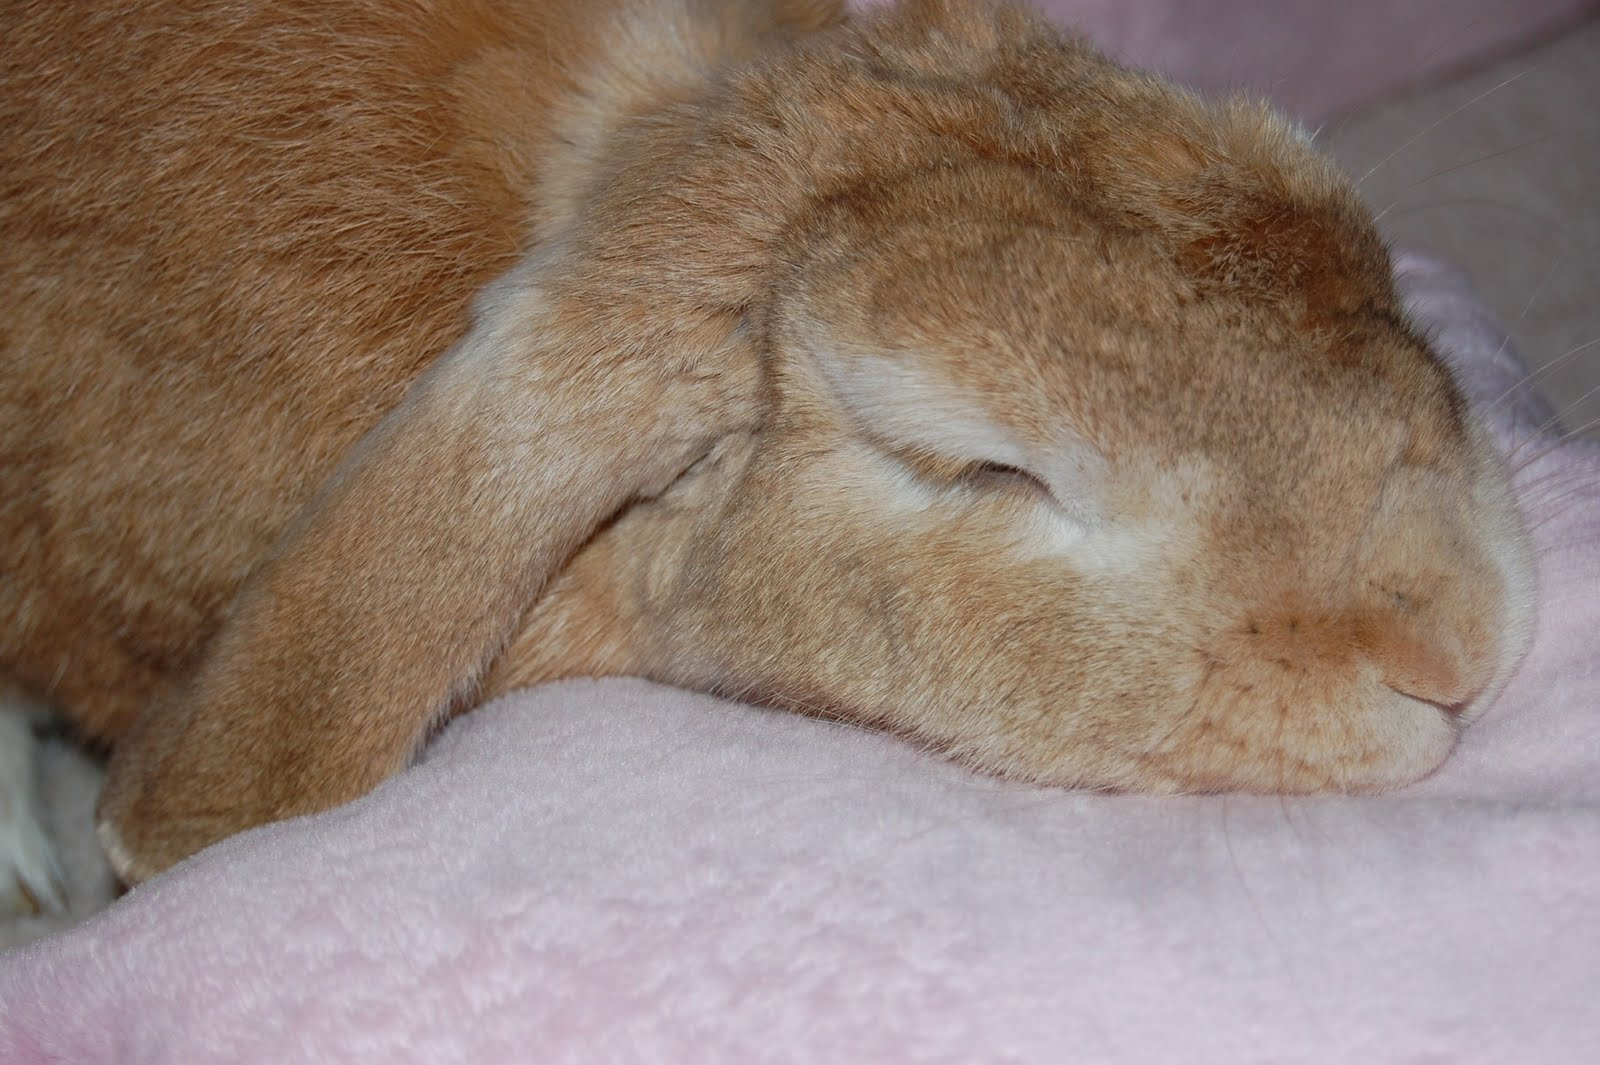bunny: (11, 1, 1536, 889)
